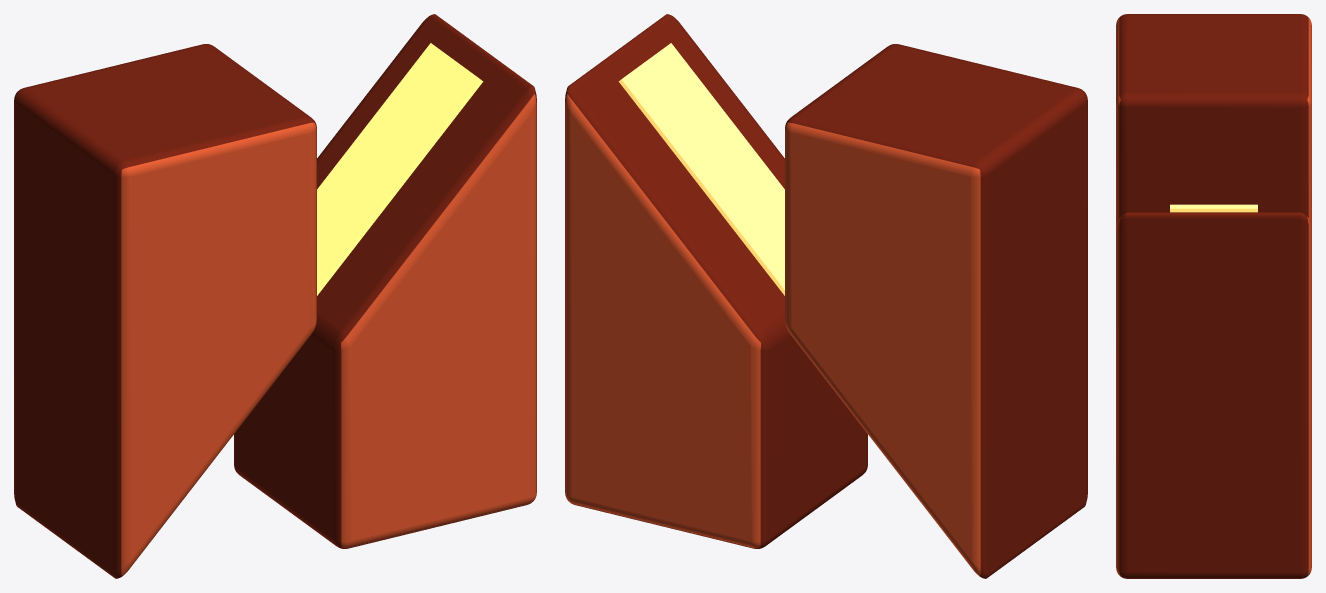
File: nexus-n.glb
3 renders of one model, left to right at view 1: azimuth 30°, elevation 25°; view 2: azimuth 150°, elevation 25°; view 3: azimuth 270°, elevation 25°, orthographic. The views are drawn at different scales.
Visible parts, largest first — view 1: N_left, N_right, N_core; view 2: N_left, N_right, N_core; view 3: N_right, N_left, N_core.
Part boxes in pixels (<box>): N_left: <box>14,44,316,578</box>; N_right: <box>234,14,536,548</box>; N_core: <box>317,43,483,295</box>; N_left: <box>785,44,1087,578</box>; N_right: <box>565,14,867,548</box>; N_core: <box>618,43,784,295</box>; N_right: <box>1116,212,1311,578</box>; N_left: <box>1116,14,1311,227</box>; N_core: <box>1170,204,1257,212</box>.
Size of the model in its own units: 2.09 by 2.09 by 0.95.
